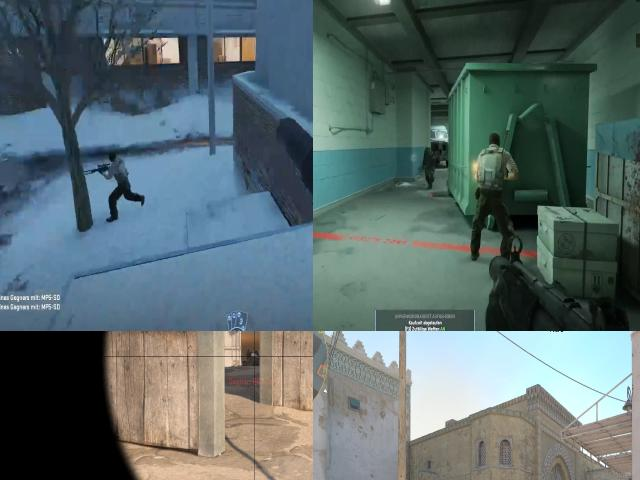CT: (247, 350, 259, 366), (246, 349, 252, 359)
CT-Head: (254, 351, 259, 357), (247, 350, 251, 357)
Dead: (417, 143, 438, 192)
T: (472, 139, 516, 207), (100, 148, 133, 194)
T-Head: (486, 128, 506, 156), (108, 150, 120, 166)
